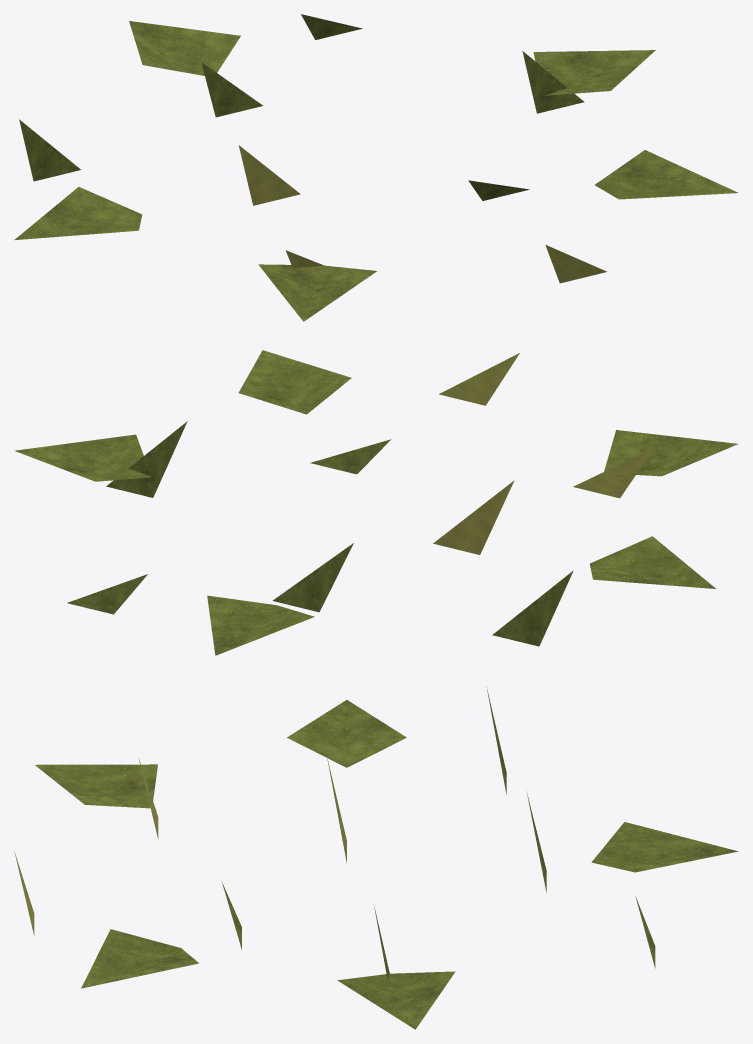
Rendered from grass-2.fbx.
The picture shows the model from 3 angles, top to bottom: view 1: azimuth 30°, elevation 25°; view 2: azimuth 150°, elevation 25°; view 3: azimuth 270°, elevation 25°; orthographic projection.
Visible parts, largest first — view 1: grass-2__Geometry; view 2: grass-2__Geometry; view 3: grass-2__Geometry.
Part boxes in pixels (x1,y1,x2,y2): grass-2__Geometry: (14, 14, 738, 321); grass-2__Geometry: (14, 350, 738, 655); grass-2__Geometry: (14, 687, 738, 1029).
Size of the model in its own units: 0.7641 by 0.0827 by 0.7091.
